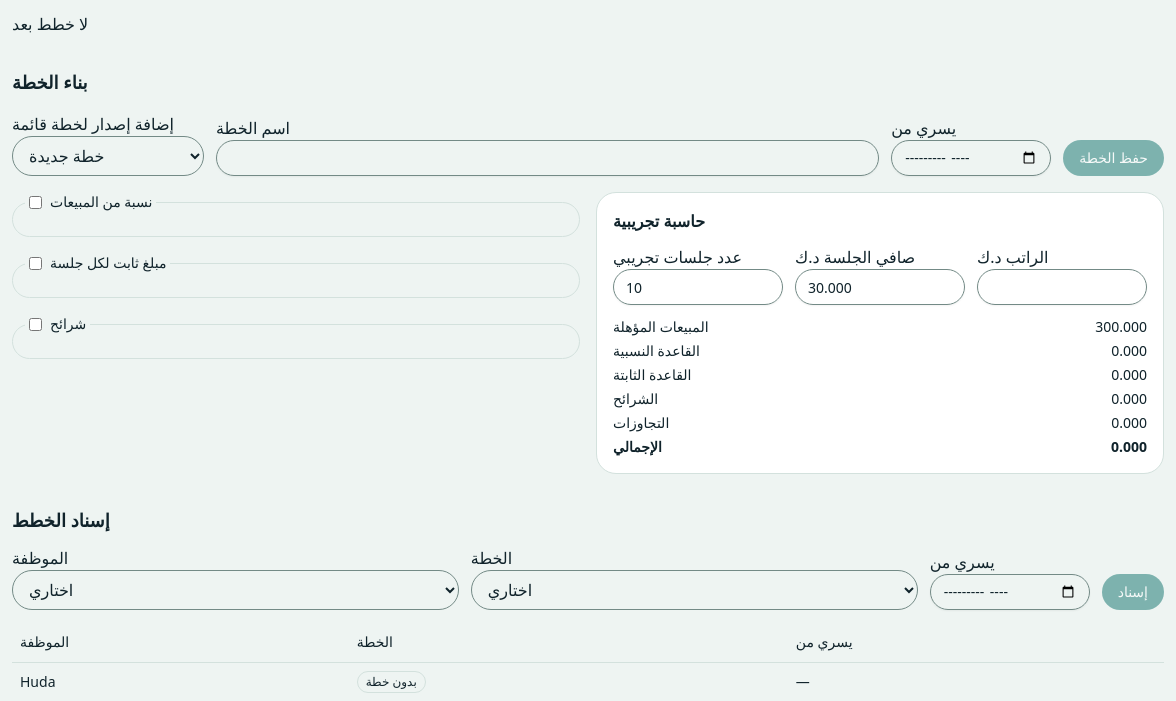
Test: limits the tier rows between one and twenty and flags staff without a plan
Later steps or results of the test are not shown.
Expected: the heading "بناء الخطة" is shown, [12, 70, 88, 94]
Click the checkbox labelled "شرائح". click: click(36, 324)
box: [29, 318, 42, 330]
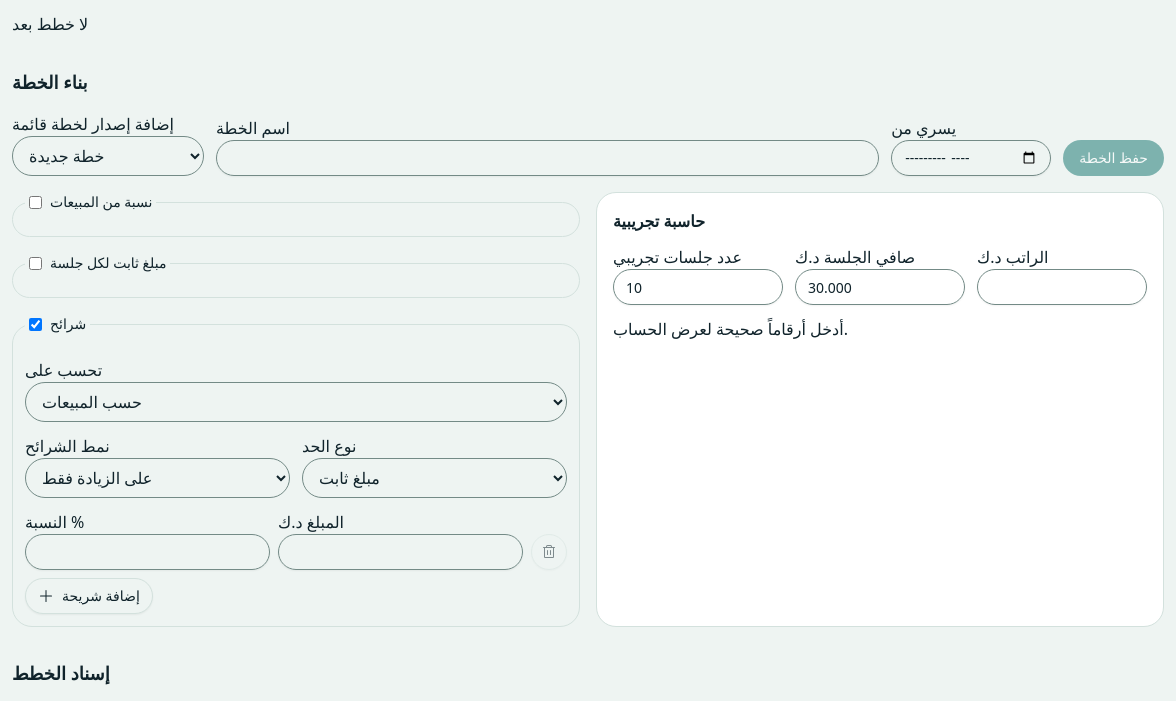
Select "حسب عدد الجلسات" in the dropdown labelled "تحسب على". click: (296, 402)
box: [25, 382, 567, 422]
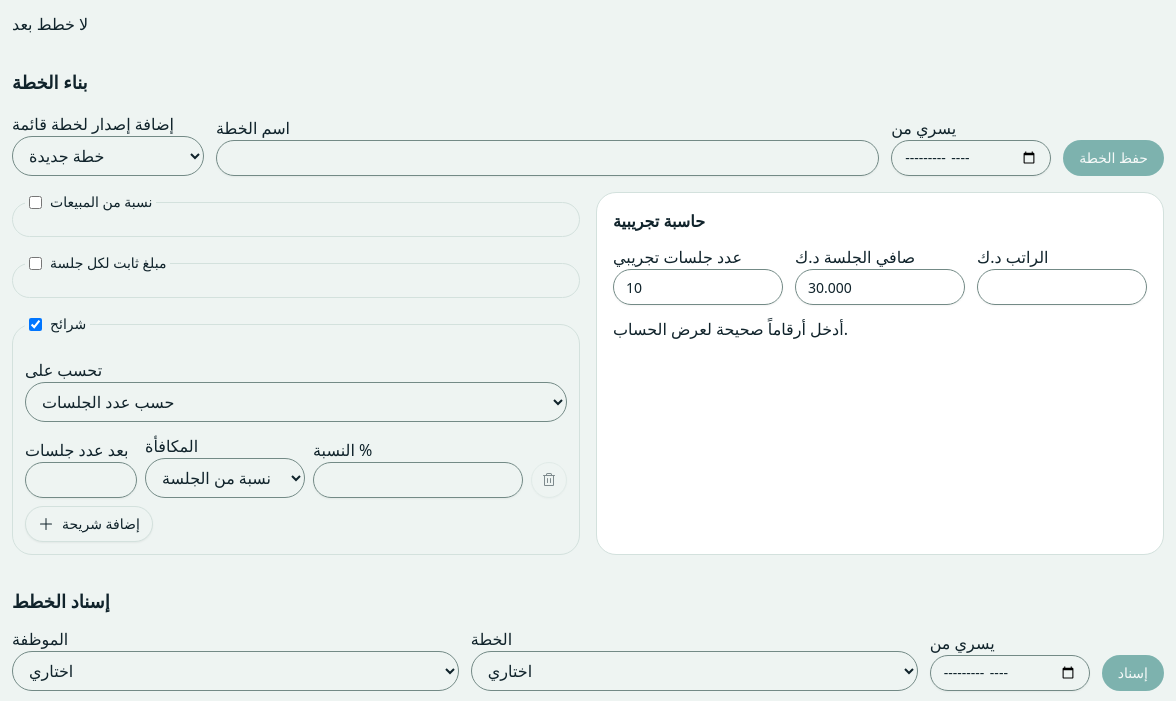
Now the button named "حذف" is disabled, box [531, 462, 567, 498]
